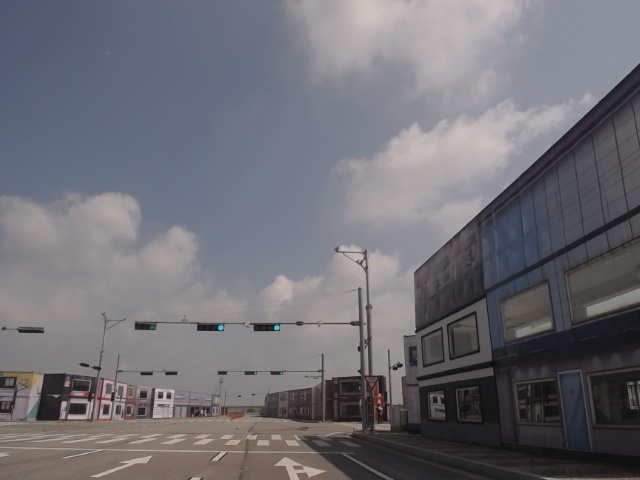straight_green_4: (197, 321, 226, 332), (254, 324, 281, 330)
